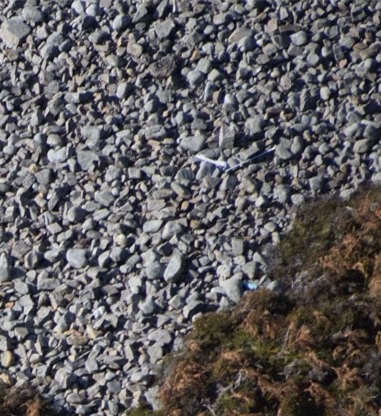tube: (227, 145, 278, 172)
white_in_green: (182, 133, 236, 183), (228, 262, 275, 307)
